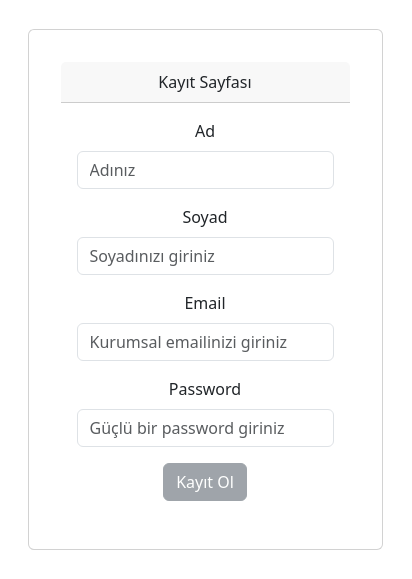
Test: Forms Page › Error Messages › surname input throws error for 2 chars
The image size is (412, 579).
Type "ha" into the field with test id "soyad-input" at (206,256), box [77,237,334,275]
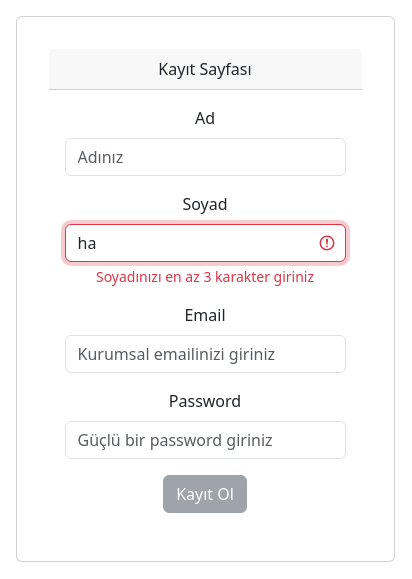
Expected: the text "Soyadınızı en az 3 karakter giriniz" is shown, [96,267,314,286]
